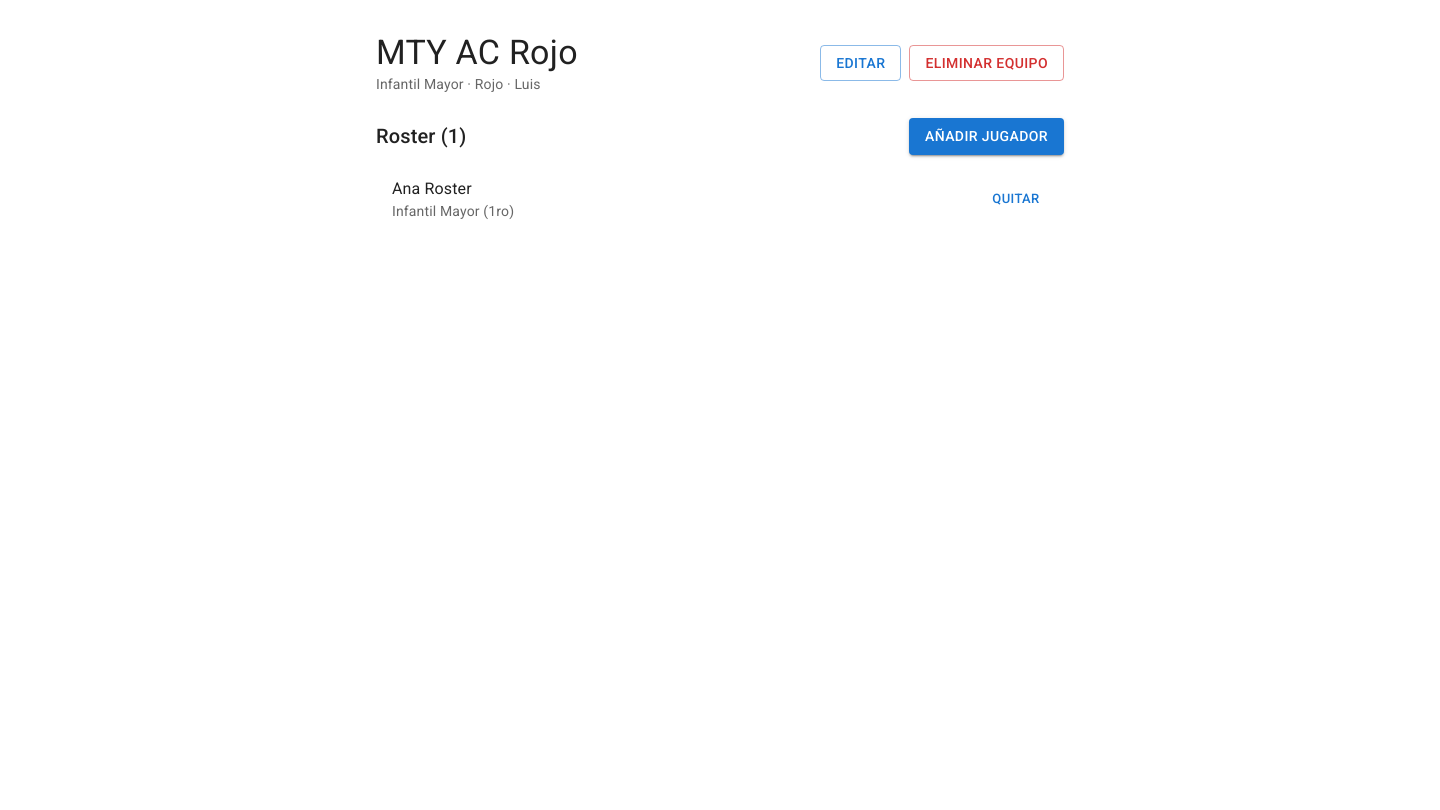
Test case: a failed removal keeps its error when the reload also fails
expect the text "Ana Roster" is shown: met, box [392,178,472,198]
Click the button "Quitar". click: [1016, 198]
box: [984,183,1048,214]
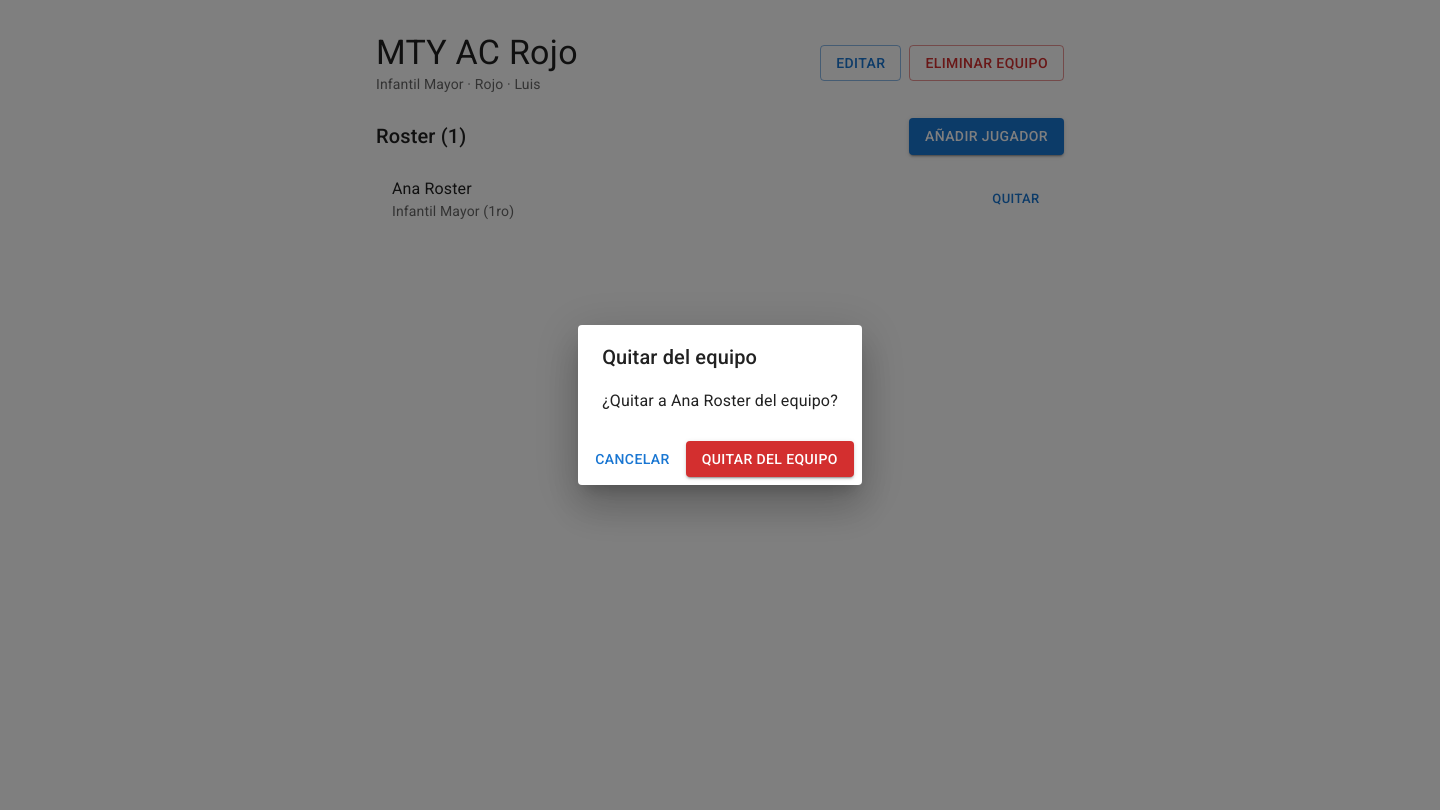
Click the button "Quitar del equipo". click: [770, 459]
box: [686,441,854,477]
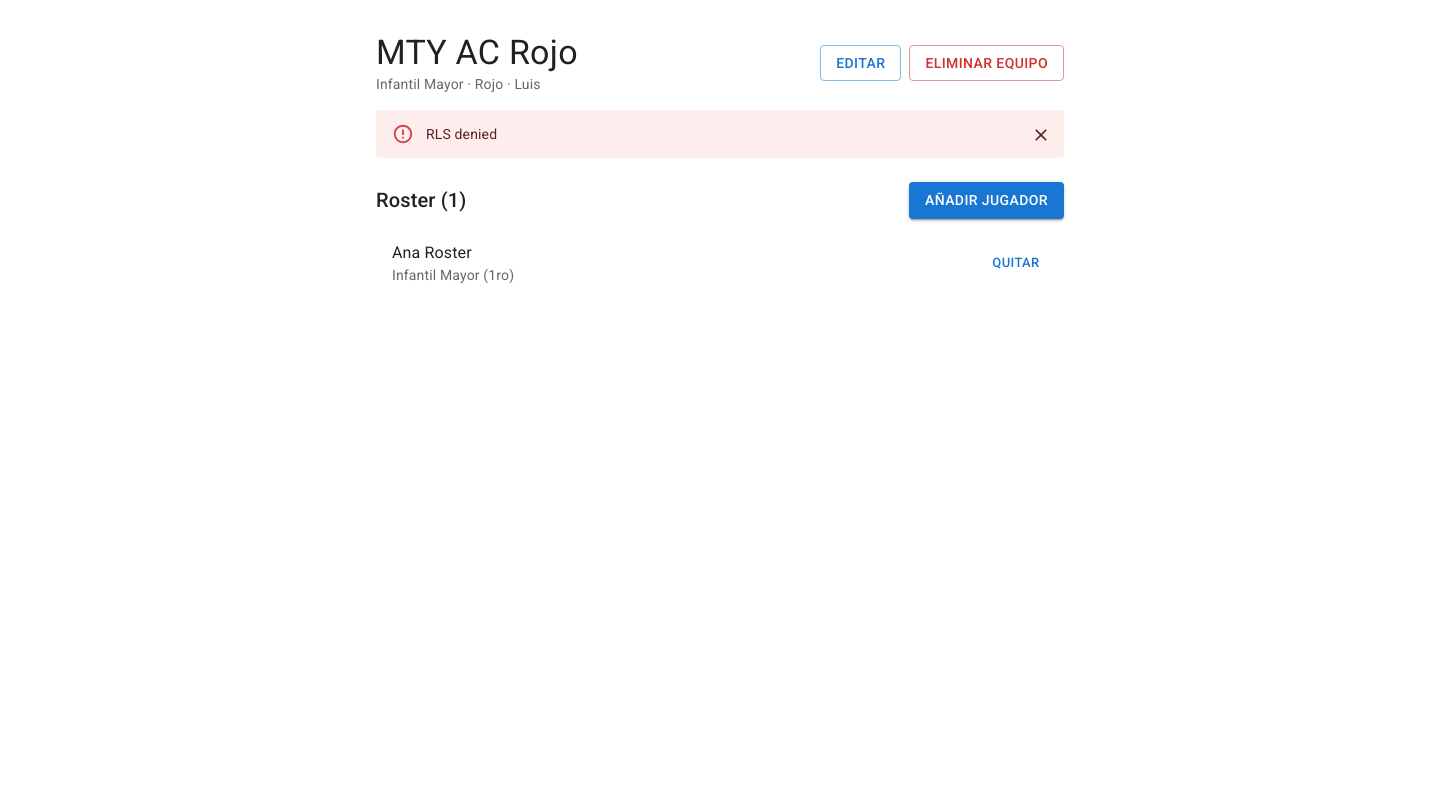
expect the text "RLS denied" is shown: met, box [426,126,497,142]
expect the dialog is gone: met
